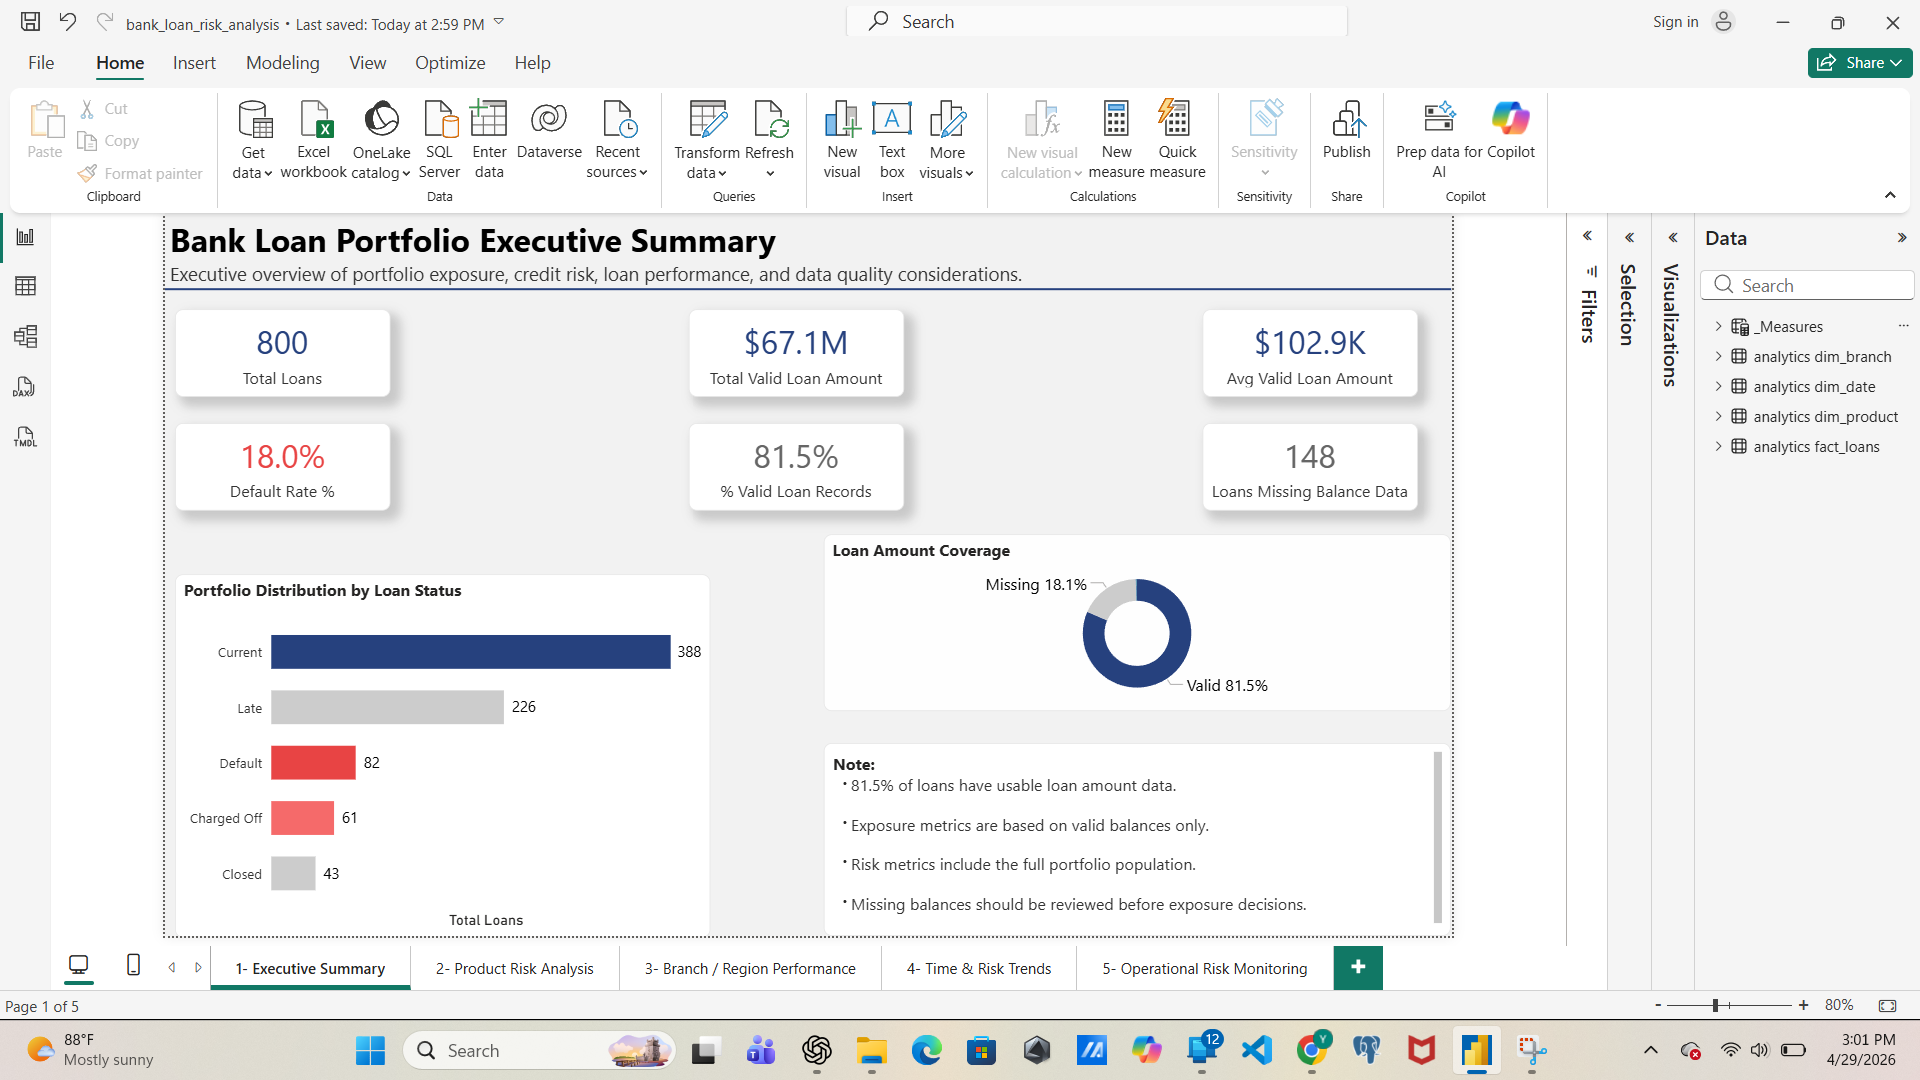

The dashboard page shown, as its layout file describes it:
{"tool":"powerbi","page":{"name":"1- Executive Summary","canvas":[1280,720],"ordinal":0},"visuals":[{"type":"shape","box":[0,0,1280,151.7],"z":500},{"type":"shape","box":[0,0,1280,80],"z":1000},{"type":"textbox","box":[0,0,1280,80],"z":2000},{"type":"card","fields":{"Values":["_Measures.Total Valid Loan Amount"]},"box":[521,95.7,214,87],"z":3000},{"type":"card","fields":{"Values":["_Measures.Avg Valid Loan Amount"]},"box":[1032.3,95.7,214,87],"z":4000},{"type":"card","fields":{"Values":["_Measures.Default Rate %"]},"box":[9.7,208.6,214,87],"z":5000},{"type":"card","fields":{"Values":["_Measures.Total Loans"]},"box":[9.7,95.7,214,87],"z":6000},{"type":"card","fields":{"Values":["_Measures.% Valid Loan Records"]},"box":[521,208.6,214,87],"z":7000},{"type":"card","fields":{"Values":["_Measures.Missing Loan Count"]},"box":[1032.3,208.6,214,87],"z":8000},{"type":"clusteredBarChart","title":"Portfolio Distribution by Loan Status ","fields":{"Category":["analytics fact_loans.loan_status"],"Y":["_Measures.Total Loans"]},"box":[9.7,359,532.9,361.7],"z":9000},{"type":"donutChart","title":"Loan Amount Coverage","fields":{"Category":["analytics fact_loans.loan_amount_quality_flag"],"Y":["_Measures.Total Loans"]},"box":[656,320,624,176],"z":10000},{"type":"textbox","box":[656,528,624,192],"z":11000}]}

Visuals, with their boxes on the page's 1280x720 design canvas (x1, y1, x2, y2). These are canvas units, not pixel positions in the 1920x1080 screenshot, which may show the page scaled, cropped or inside an application window:
shape: x1=0 y1=0 x2=1280 y2=152
shape: x1=0 y1=0 x2=1280 y2=80
textbox: x1=0 y1=0 x2=1280 y2=80
card - _Measures.Total Valid Loan Amount: x1=521 y1=96 x2=735 y2=183
card - _Measures.Avg Valid Loan Amount: x1=1032 y1=96 x2=1246 y2=183
card - _Measures.Default Rate %: x1=10 y1=209 x2=224 y2=296
card - _Measures.Total Loans: x1=10 y1=96 x2=224 y2=183
card - _Measures.% Valid Loan Records: x1=521 y1=209 x2=735 y2=296
card - _Measures.Missing Loan Count: x1=1032 y1=209 x2=1246 y2=296
"Portfolio Distribution by Loan Status " clusteredBarChart: x1=10 y1=359 x2=543 y2=721
"Loan Amount Coverage" donutChart: x1=656 y1=320 x2=1280 y2=496
textbox: x1=656 y1=528 x2=1280 y2=720
